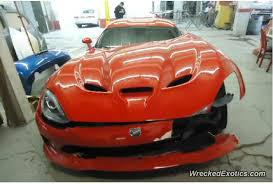Headlight-Damage: (187, 61, 246, 121)
front-bumper-dent: (68, 123, 211, 173)
